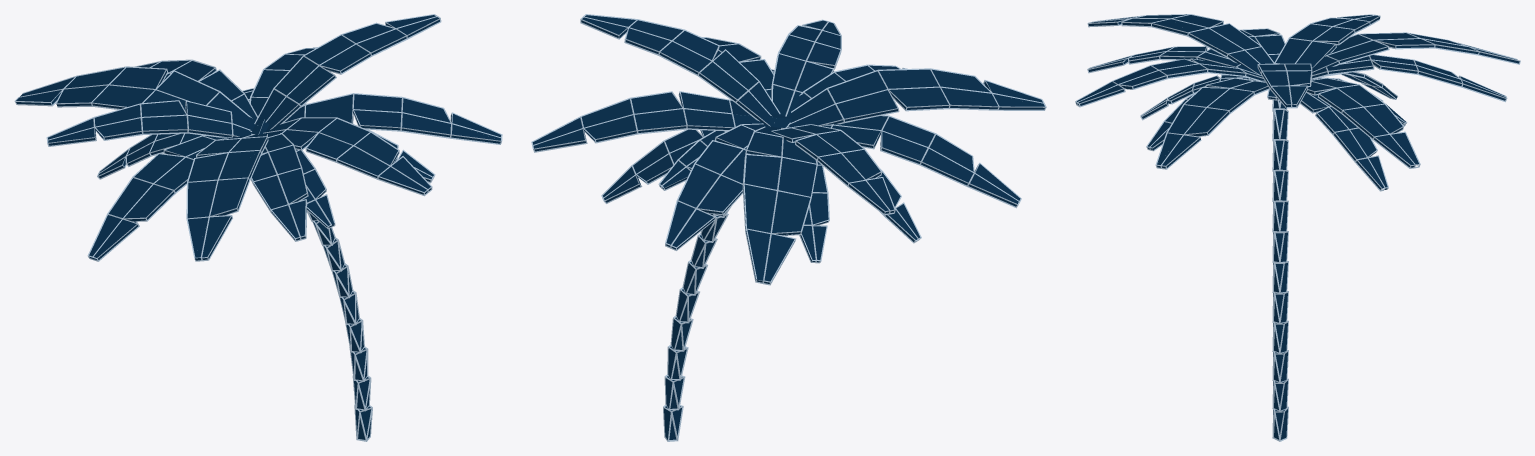
File: palmSynth.glb
3 renders of one model, left to right at view 1: azimuth 30°, elevation 25°; view 2: azimuth 150°, elevation 25°; view 3: azimuth 270°, elevation 25°, orthographic. The views are drawn at different scales.
Visible parts, largest first — view 1: Island.1362; view 2: Island.1362; view 3: Island.1362.
Boxes of the visible parts, x1,y1,x2,y2 form: Island.1362: [14, 14, 502, 441]; Island.1362: [531, 14, 1046, 441]; Island.1362: [1075, 14, 1520, 441].
Size of the model in its own units: 7.73 by 7.58 by 8.26.
1 material, 1 textured.
